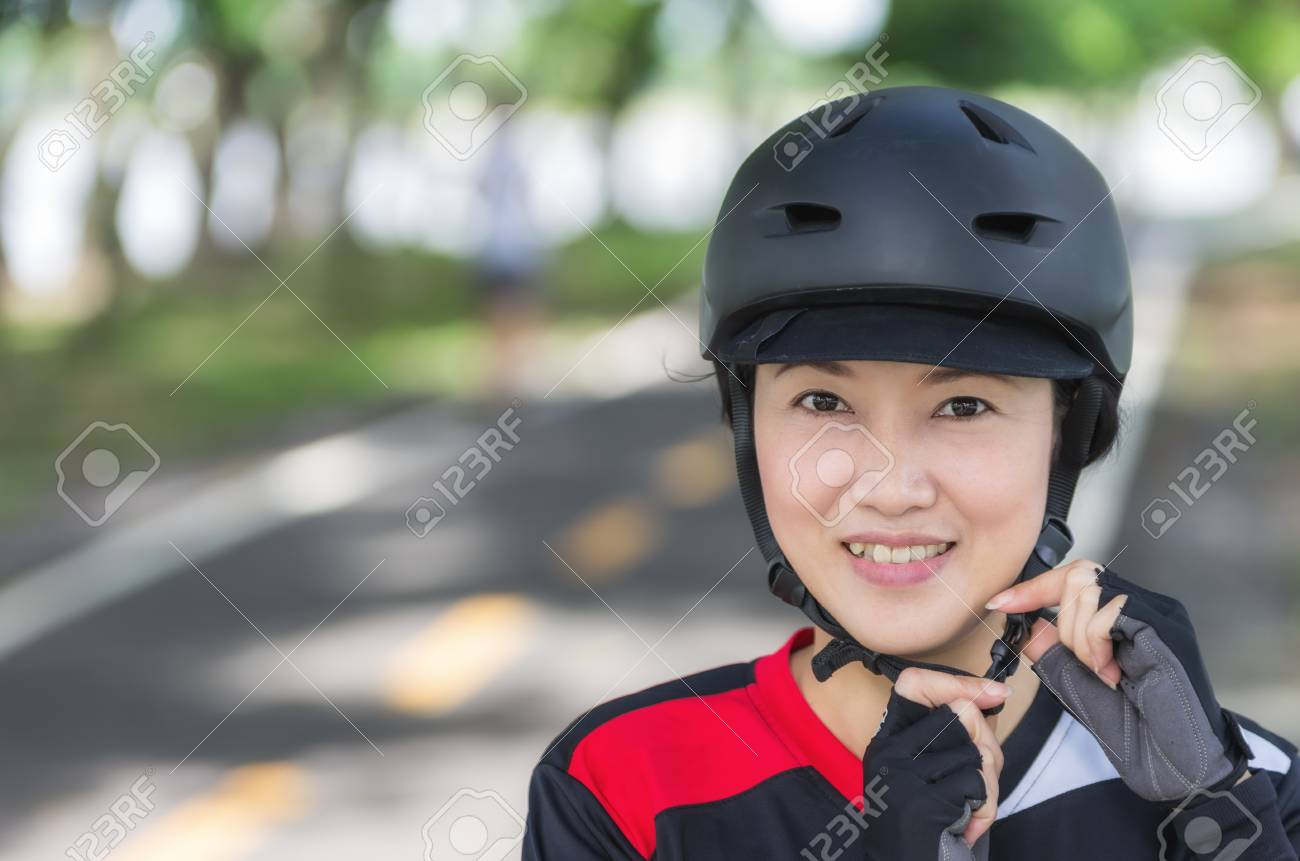helmets: (696, 86, 1141, 481)
